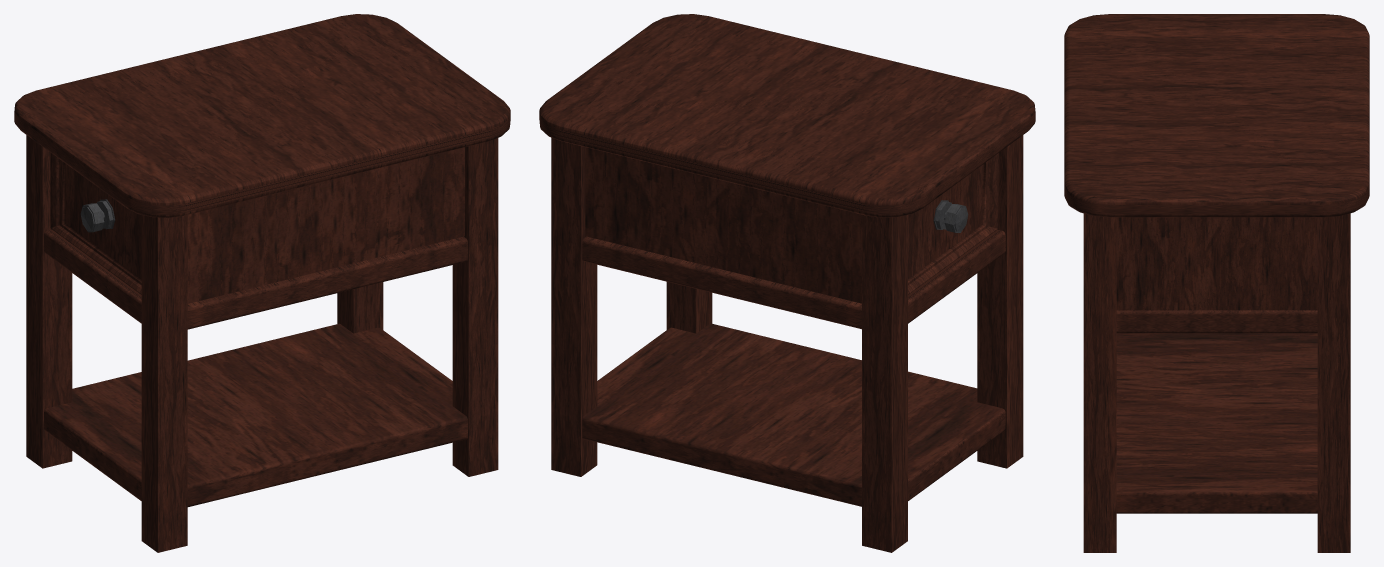
Rendered from readingStand.fbx.
The picture shows the model from 3 angles, left to right: view 1: azimuth 30°, elevation 25°; view 2: azimuth 150°, elevation 25°; view 3: azimuth 270°, elevation 25°; orthographic projection.
Visible parts, largest first — view 1: pCube41, pCube44, pCube40, pCube49, pCube42, pCube47, pCube43, pCube45, pCube48; view 2: pCube41, pCube44, pCube39, pCube47, pCube48, pCube49, pCube43, pCube45, pCube42; view 3: pCube41, pCube44, pCube46, pCube42, pCube48, pCube43.
Part boxes in pixels (x1,y1,x2,y2): pCube41: (14, 14, 510, 217); pCube44: (44, 323, 467, 506); pCube40: (187, 147, 464, 303); pCube49: (141, 215, 187, 552); pCube42: (452, 138, 498, 476); pCube47: (26, 135, 72, 468); pCube43: (44, 229, 467, 329); pCube45: (50, 152, 141, 294); pCube48: (337, 282, 383, 333); pCube41: (539, 14, 1035, 217); pCube44: (582, 323, 1005, 506); pCube39: (585, 147, 861, 303); pCube47: (862, 214, 907, 552); pCube48: (551, 137, 597, 476); pCube49: (977, 135, 1023, 468); pCube43: (582, 229, 1005, 329); pCube45: (908, 153, 998, 294); pCube42: (666, 282, 712, 333); pCube41: (1064, 14, 1369, 217); pCube44: (1116, 333, 1317, 513); pCube46: (1116, 217, 1317, 310); pCube42: (1083, 213, 1116, 552); pCube48: (1317, 213, 1350, 552); pCube43: (1116, 310, 1317, 333).
Size of the model in its own units: 12.62 by 11.34 by 8.65.
2 materials, 2 textured.
